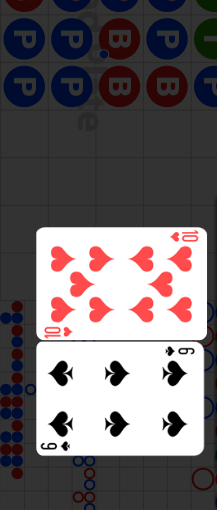10H: (168, 230, 199, 244)
6S: (40, 439, 73, 452)
